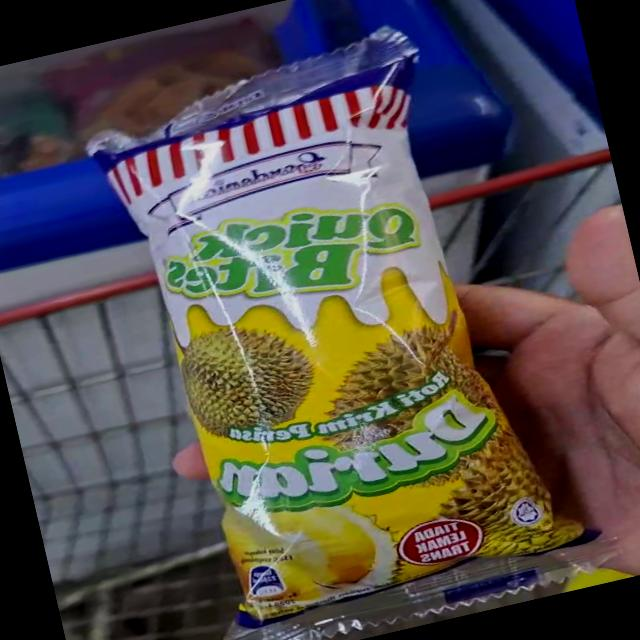Roti: (51, 6, 498, 417), (126, 301, 629, 640)
